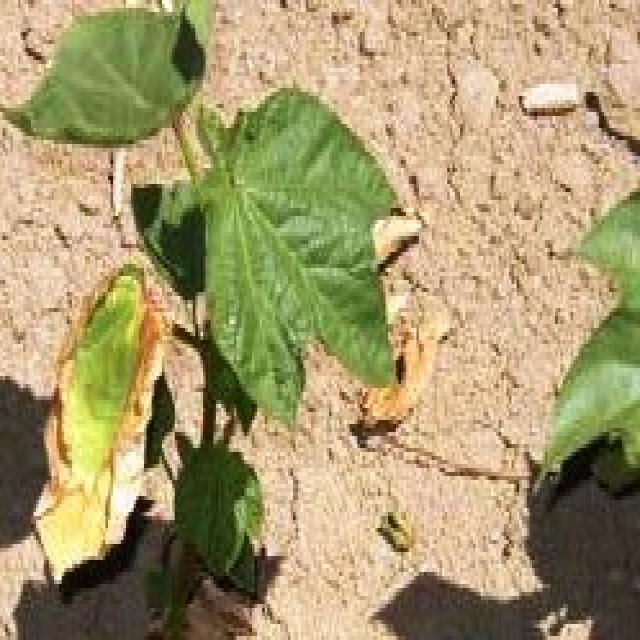Fusarium Wilt: (21, 16, 387, 640)
